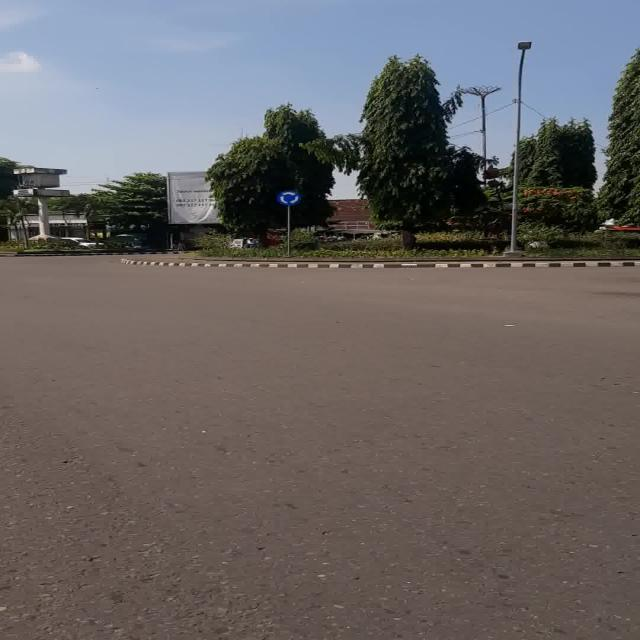Ikuti Bundaran: (276, 190, 302, 206)
